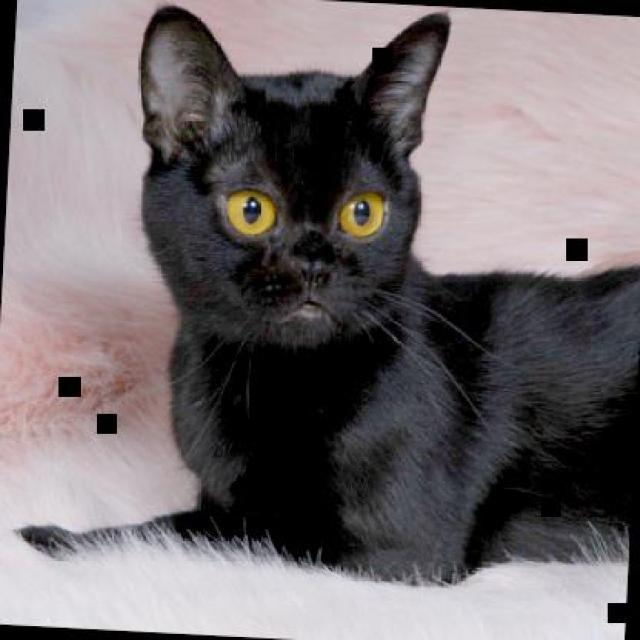cat: (19, 0, 638, 597)
